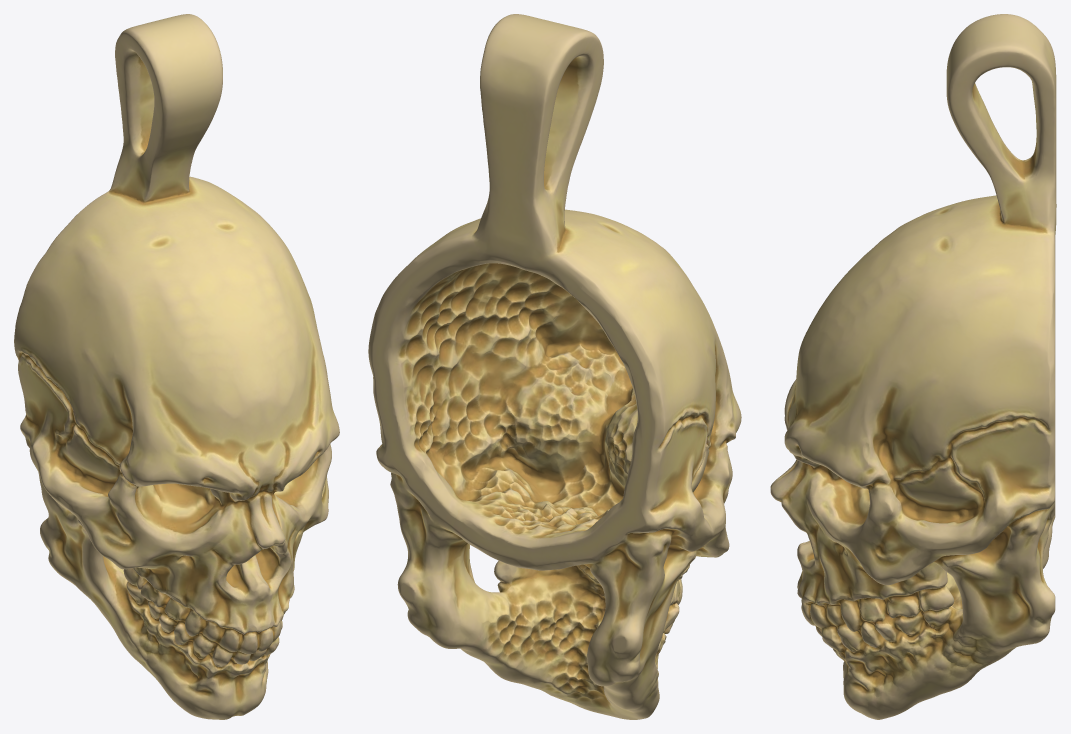
File: pendant.glb
3 views of the same model, side by side, from view 1: azimuth 30°, elevation 25°; view 2: azimuth 150°, elevation 25°; view 3: azimuth 270°, elevation 25° (orthographic). The views are drawn at different scales.
Visible parts, largest first — view 1: Group37593; view 2: Group37593; view 3: Group37593.
Part boxes in pixels (<box>): Group37593: <box>14,14,339,719</box>; Group37593: <box>368,14,741,719</box>; Group37593: <box>770,14,1056,719</box>.
Size of the model in its own units: 16.51 by 37.53 by 14.27.
Materials: 1 (1 with a texture image).
